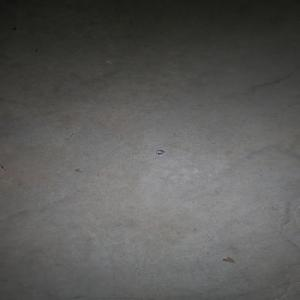Nut: (155, 150, 164, 155)
